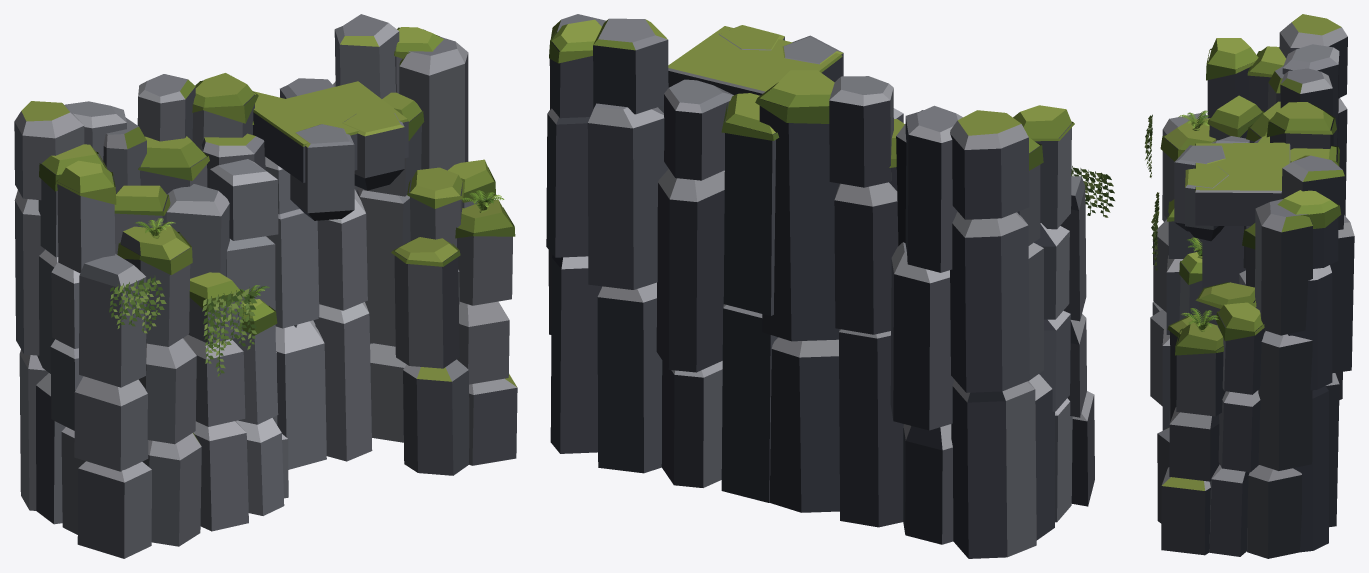
File: wf_basalt_cliff_low.glb
The picture shows the model from 3 angles, left to right: view 1: azimuth 30°, elevation 25°; view 2: azimuth 150°, elevation 25°; view 3: azimuth 270°, elevation 25°; orthographic projection. The views are drawn at different scales.
Parts seen in each view (by area): view 1: wf_basalt_cliff_low; view 2: wf_basalt_cliff_low; view 3: wf_basalt_cliff_low.
Boxes of the visible parts, x1=… form: wf_basalt_cliff_low: x1=14, y1=14, x2=517, y2=558; wf_basalt_cliff_low: x1=546, y1=14, x2=1114, y2=558; wf_basalt_cliff_low: x1=1144, y1=14, x2=1354, y2=558.
Size of the model in its own units: 25.11 by 21.11 by 11.26.
